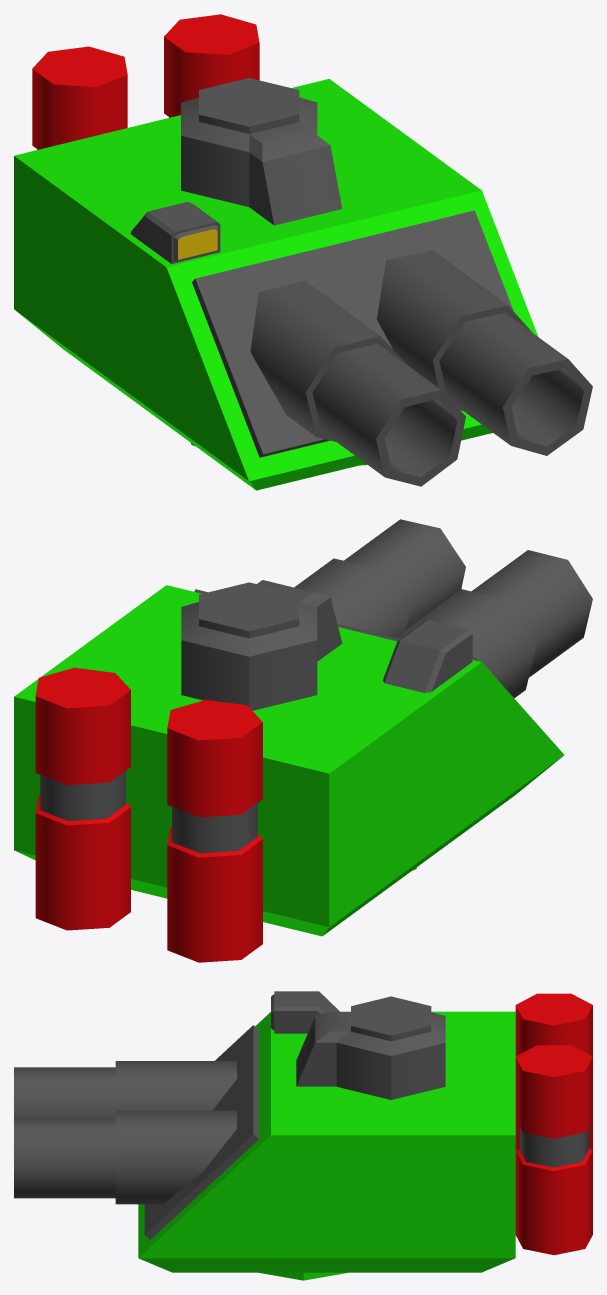
The model's file is TankTurret7.fbx.
3 renders of one model, top to bottom at view 1: azimuth 30°, elevation 25°; view 2: azimuth 150°, elevation 25°; view 3: azimuth 270°, elevation 25°, orthographic. The views are drawn at different scales.
Parts seen in each view (by area): view 1: Double_Turret; view 2: Double_Turret; view 3: Double_Turret.
Boxes of the visible parts, <box> form: Double_Turret: <box>14,14,592,490</box>; Double_Turret: <box>14,519,592,962</box>; Double_Turret: <box>14,991,592,1280</box>.
Bounding box in the file's own units: 158 × 313 × 132.
